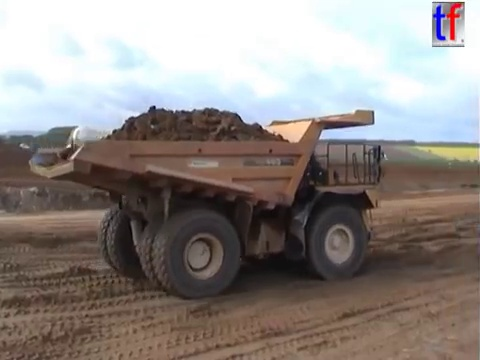truck: (25, 106, 392, 302)
